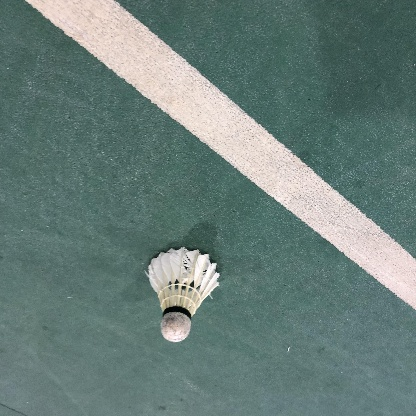ball_single: (148, 247, 220, 342)
